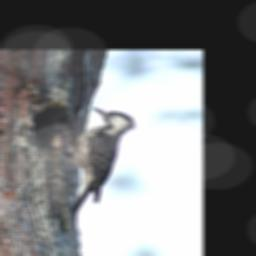Woodpecker: (45, 105, 137, 215)
